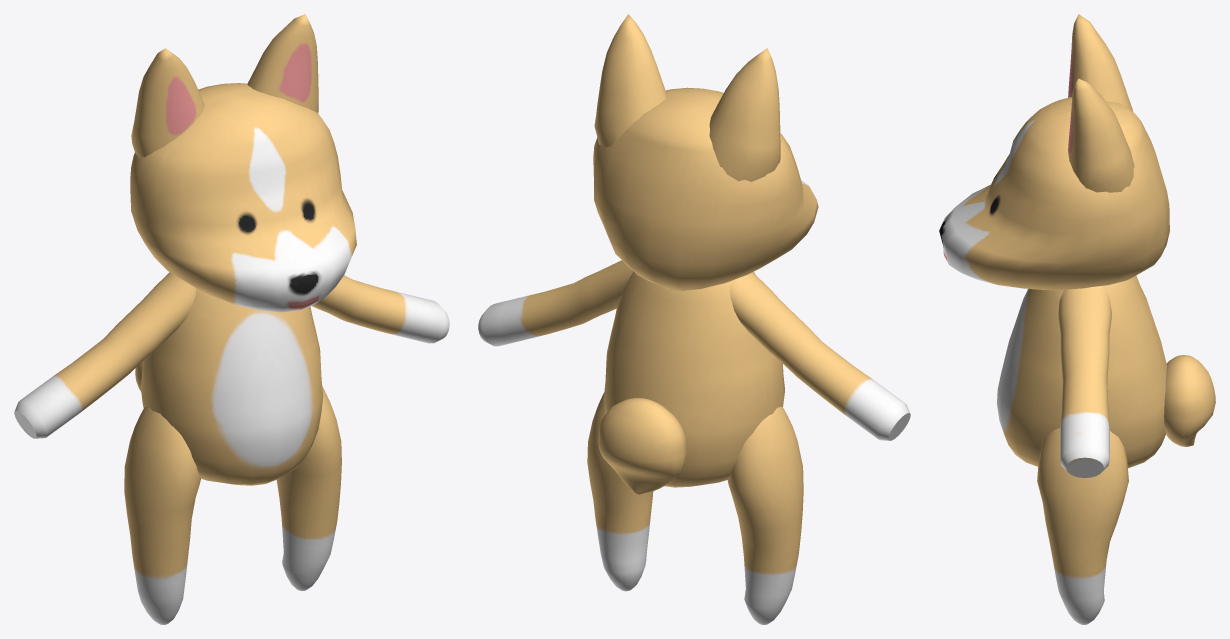
Rendered from doggo.fbx.
3 views of the same model, side by side, from view 1: azimuth 30°, elevation 25°; view 2: azimuth 150°, elevation 25°; view 3: azimuth 270°, elevation 25° (orthographic). The views are drawn at different scales.
Parts seen in each view (by area): view 1: pCone3; view 2: pCone3; view 3: pCone3.
Boxes of the visible parts, box(x1,y1,x2,y2) form: pCone3: box(14, 14, 449, 624); pCone3: box(478, 14, 910, 624); pCone3: box(939, 14, 1215, 624).
Size of the model in its own units: 9.35 by 12.23 by 5.62.
Materials: 1 (1 with a texture image).
